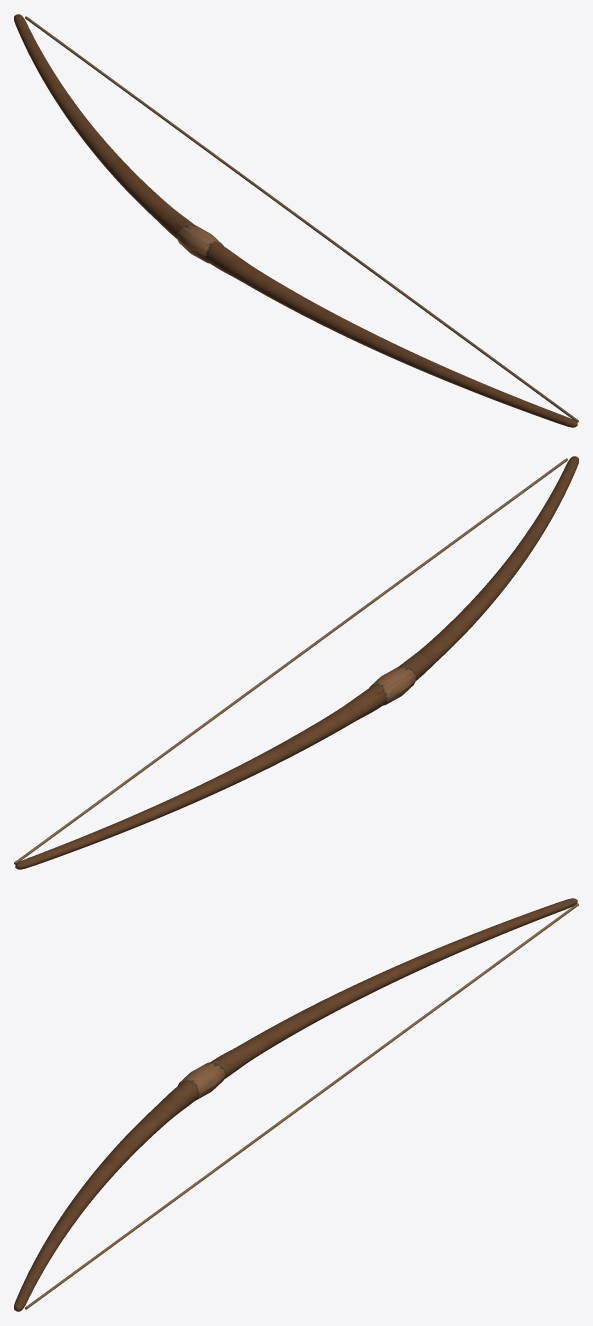
File: bow_simple.glb
The picture shows the model from 3 angles, top to bottom: view 1: azimuth 30°, elevation 25°; view 2: azimuth 150°, elevation 25°; view 3: azimuth 330°, elevation 25°; orthographic projection.
Parts seen in each view (by area): view 1: bow_simple; view 2: bow_simple; view 3: bow_simple.
Part boxes in pixels (left/top/right/bottom): bow_simple: left=14, top=14, right=578, bottom=427; bow_simple: left=14, top=456, right=578, bottom=869; bow_simple: left=14, top=898, right=578, bottom=1311.
Bounding box in the file's own units: 0.167 × 0.0325 × 1.41.
Materials: 1 (1 with a texture image).
